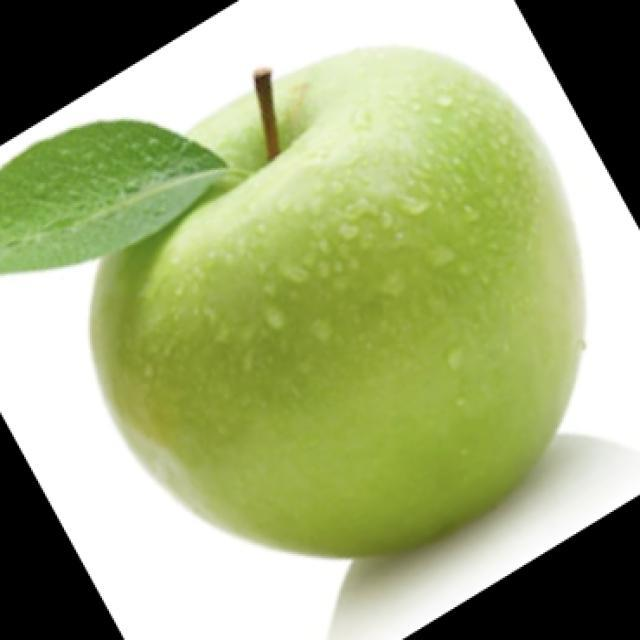Apple: (87, 43, 587, 559)
